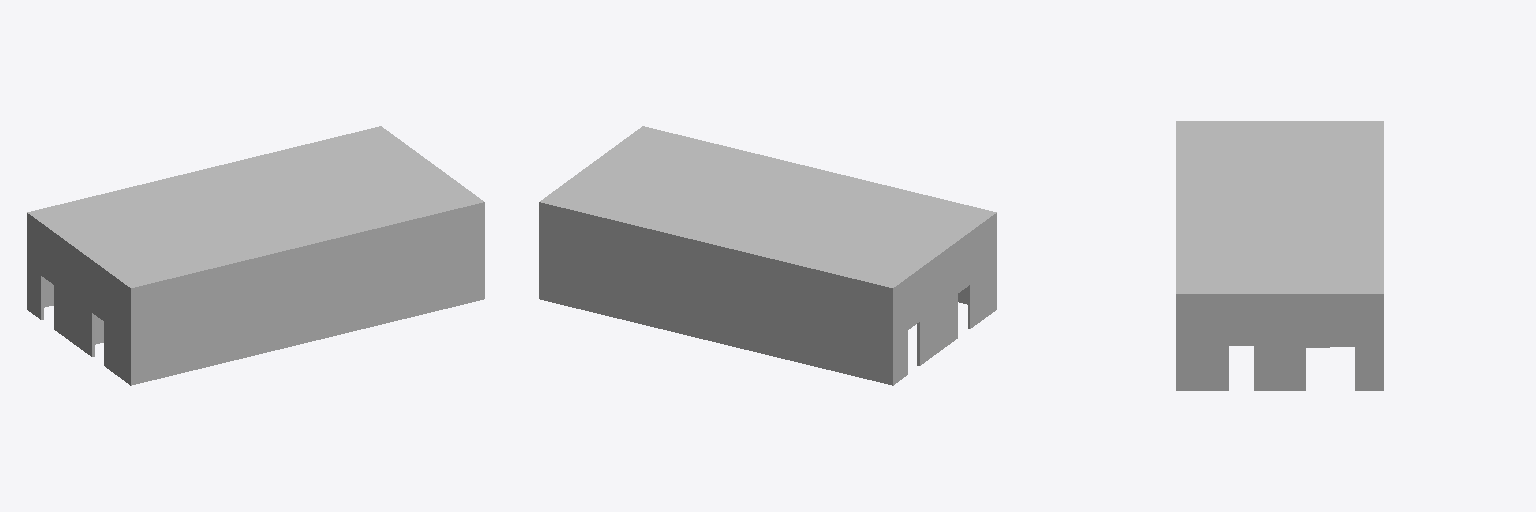
Rendered from museumTri22.obj.
3 views of the same model, side by side, from view 1: azimuth 30°, elevation 25°; view 2: azimuth 150°, elevation 25°; view 3: azimuth 270°, elevation 25° (orthographic).
Parts seen in each view (by area): view 1: Cube.001; view 2: Cube.001; view 3: Cube.001.
Boxes of the visible parts, x1,y1,x2,y2 form: Cube.001: [27, 126, 484, 385]; Cube.001: [539, 126, 996, 385]; Cube.001: [1176, 121, 1383, 390].
Size of the model in its own units: 8.29 by 2.18 by 4.21.